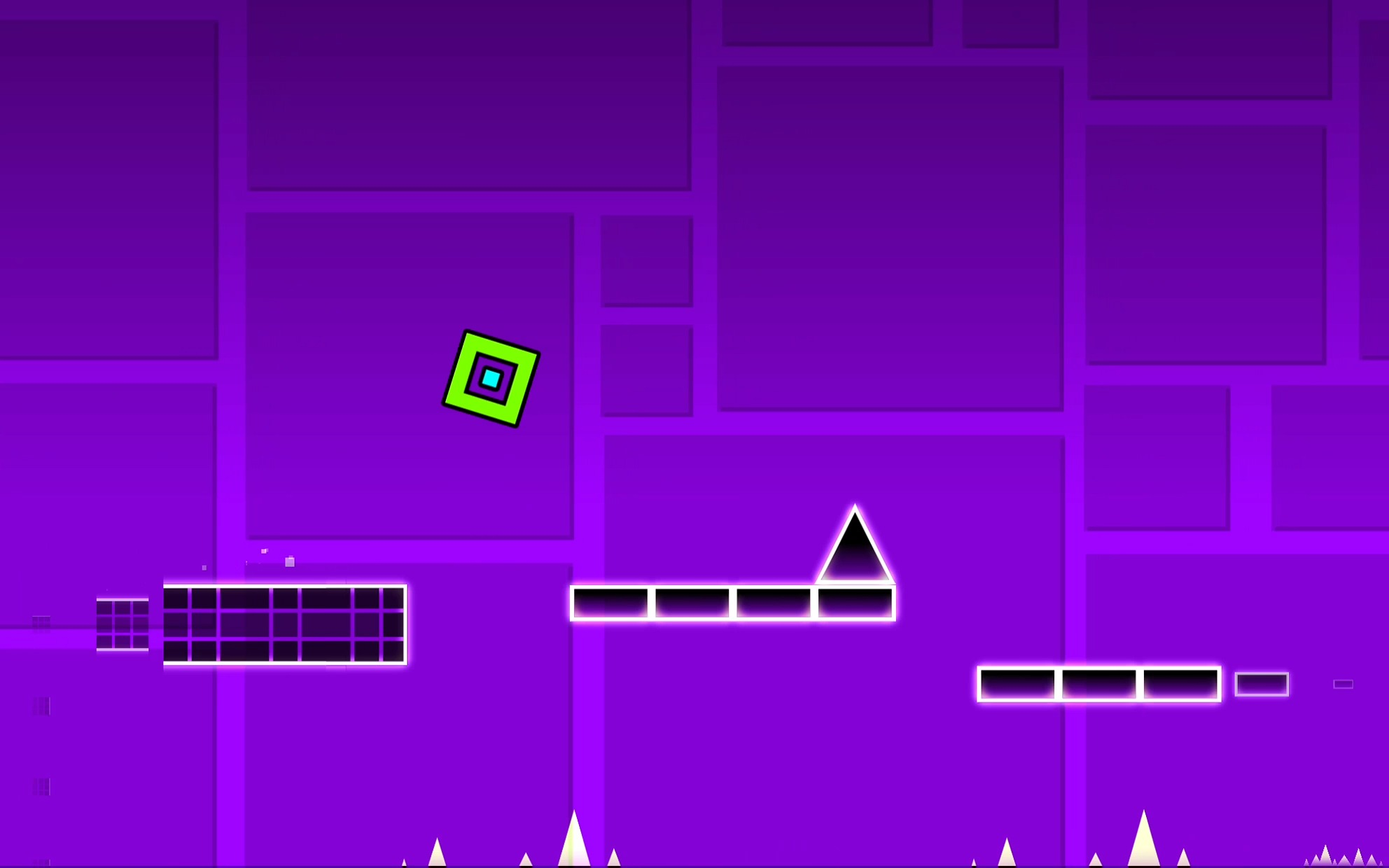Block2: (164, 584, 407, 663)
Block3: (730, 581, 815, 624), (814, 584, 899, 626), (1061, 665, 1141, 705), (977, 666, 1064, 701), (572, 585, 653, 620), (1140, 666, 1221, 701), (653, 586, 732, 618), (1233, 670, 1290, 696)
Player: (442, 330, 538, 427)
Spike: (815, 505, 893, 581)
